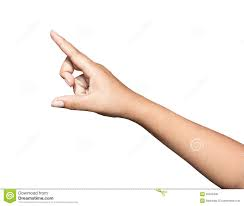hand: (29, 20, 141, 131)
